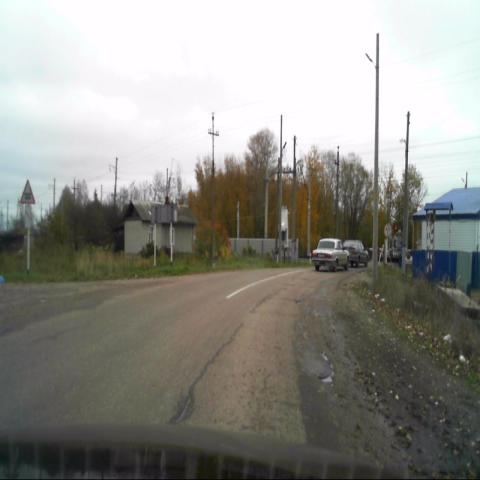1_1: (20, 181, 36, 202)
